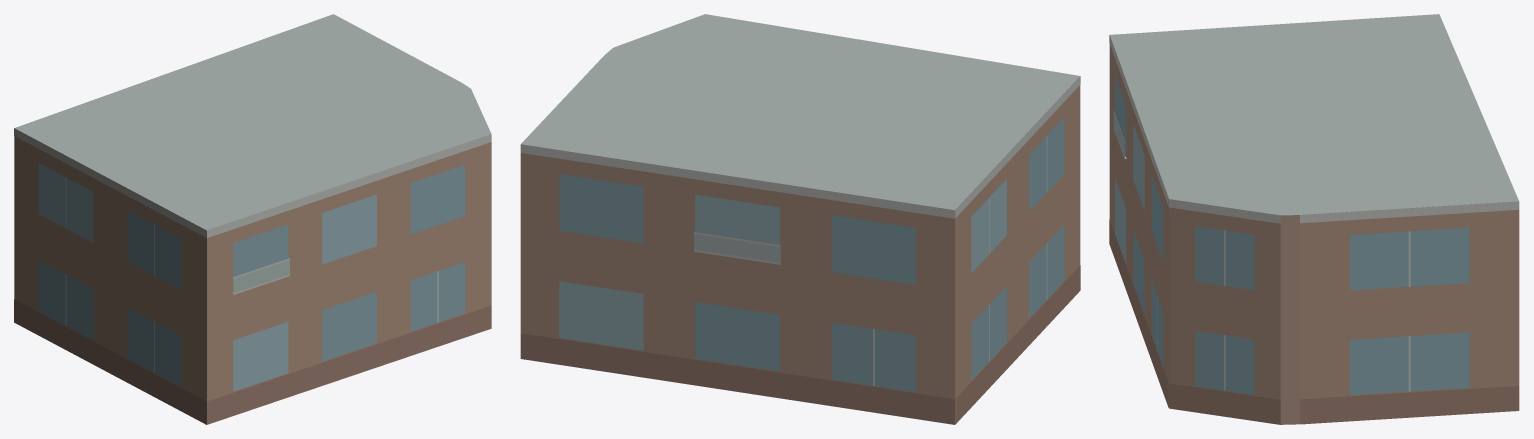
The model's file is survey-upis-33020162.glb.
3 views of the same model, side by side, from view 1: azimuth 30°, elevation 25°; view 2: azimuth 150°, elevation 25°; view 3: azimuth 270°, elevation 25° (orthographic). The views are drawn at different scales.
Parts seen in each view (by area): view 1: survey-upis-33020162.tmp; view 2: survey-upis-33020162.tmp; view 3: survey-upis-33020162.tmp.
Boxes of the visible parts, bbox=[...] form: survey-upis-33020162.tmp: bbox=[14, 14, 491, 424]; survey-upis-33020162.tmp: bbox=[520, 14, 1080, 424]; survey-upis-33020162.tmp: bbox=[1109, 14, 1519, 424].
Bounding box in the file's own units: 12.59 × 6.1 × 10.82.
